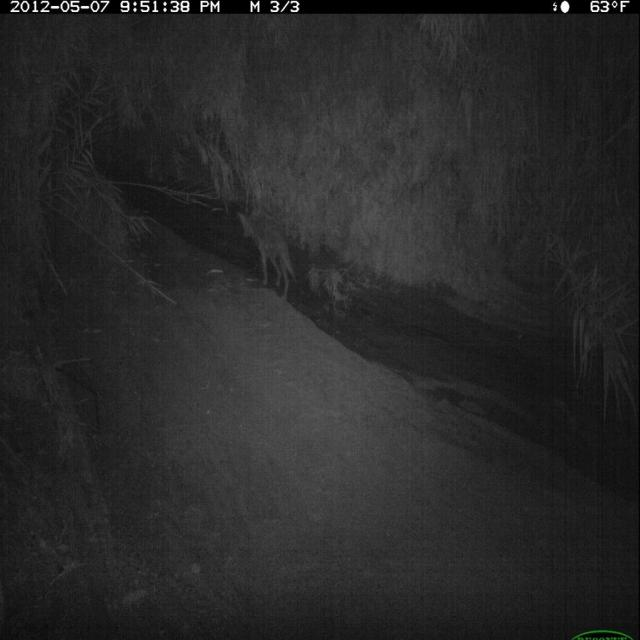coyote: (241, 203, 300, 302)
